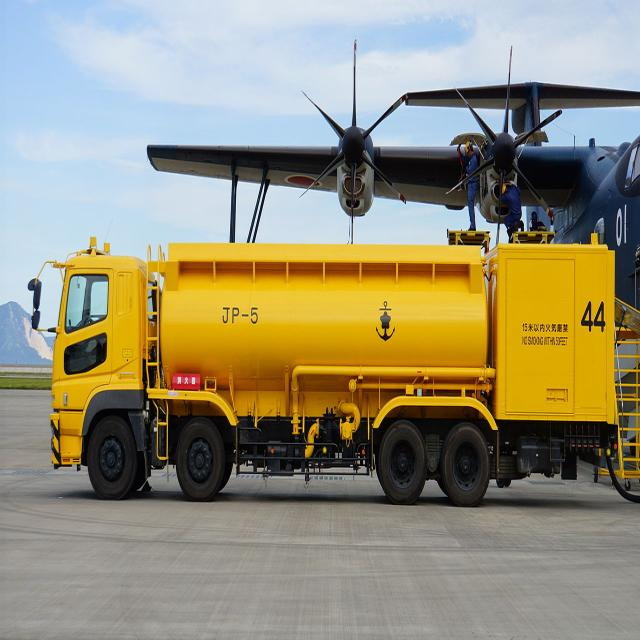MIL_Plane: (146, 37, 640, 458)
